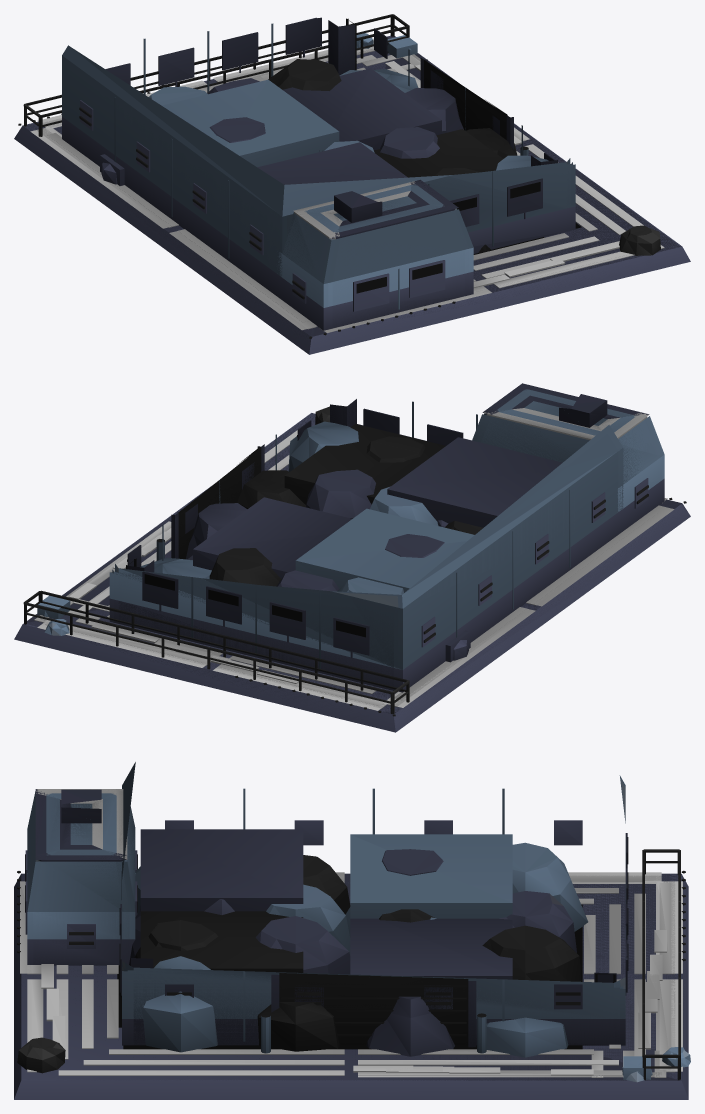
The model's file is veyran_vehicle_factory_heavily_damaged.glb.
The picture shows the model from 3 angles, top to bottom: view 1: azimuth 30°, elevation 25°; view 2: azimuth 150°, elevation 25°; view 3: azimuth 270°, elevation 25°; orthographic projection. The views are drawn at different scales.
Visible parts, largest first — view 1: body (×3); view 2: body (×3); view 3: body (×3).
Part boxes in pixels (left/top/right/bottom): body (×3): left=14, top=14, right=690, bottom=354; body (×3): left=14, top=383, right=690, bottom=732; body (×3): left=14, top=762, right=690, bottom=1099.
Size of the model in its own units: 11.2 by 3.48 by 15.05.
